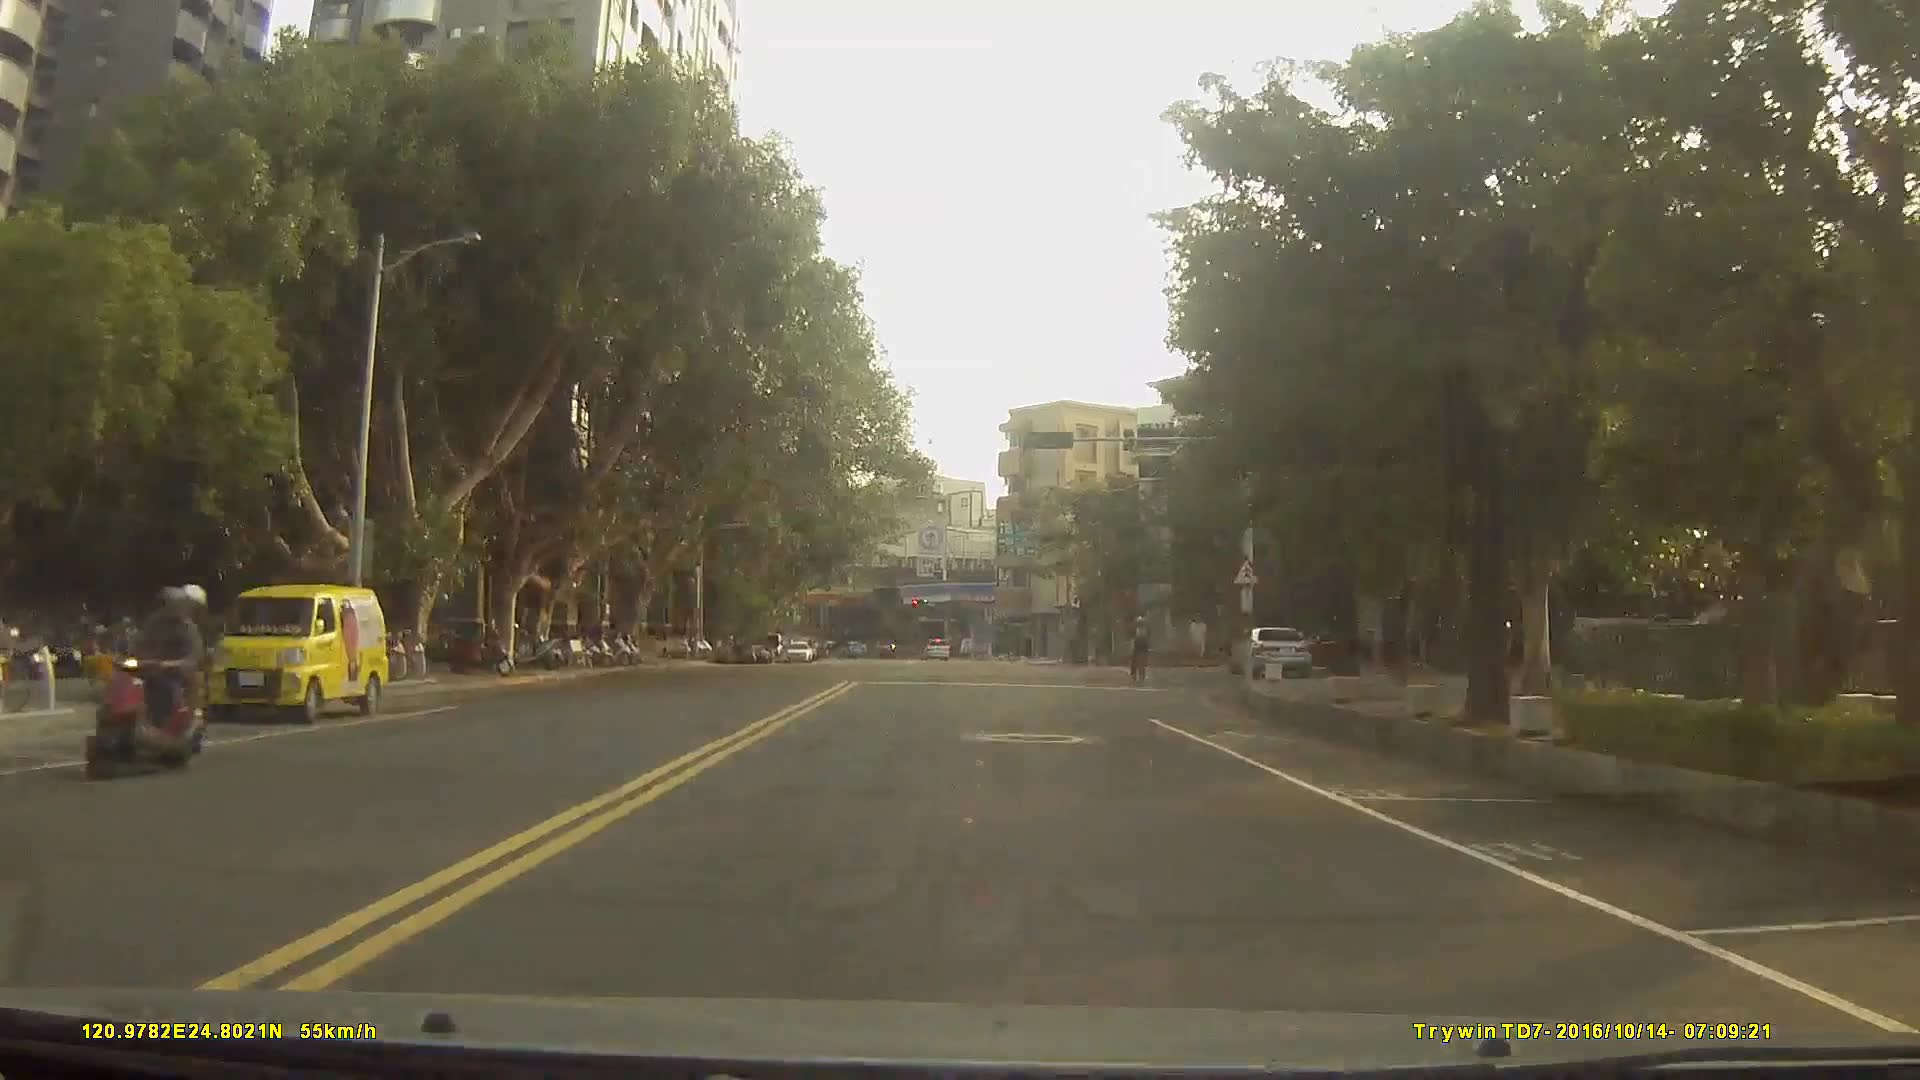pedestrian: (1189, 616, 1213, 682)
rider: (86, 580, 217, 776), (1126, 618, 1153, 681)
vehicle: (1223, 625, 1313, 678), (921, 635, 951, 660), (783, 641, 814, 663)
